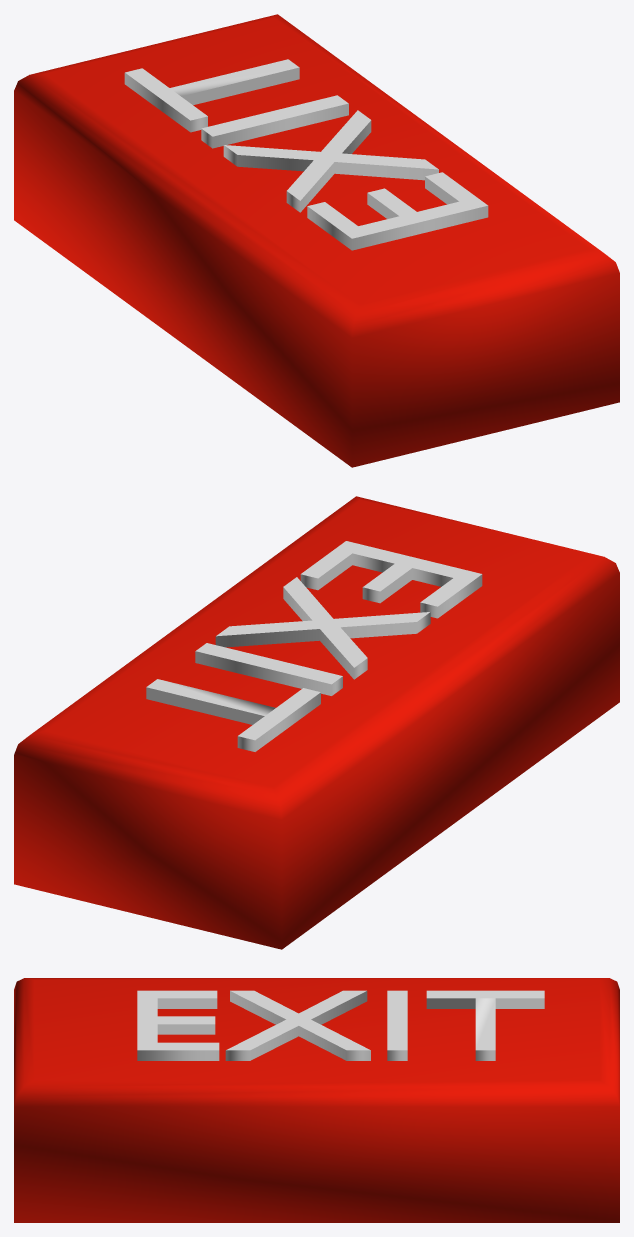
The model's file is ExitButton.fbx.
The picture shows the model from 3 angles, top to bottom: view 1: azimuth 30°, elevation 25°; view 2: azimuth 150°, elevation 25°; view 3: azimuth 270°, elevation 25°; orthographic projection. The views are drawn at different scales.
Visible parts, largest first — view 1: ExitButton; view 2: ExitButton; view 3: ExitButton.
Boxes of the visible parts, x1,y1,x2,y2 form: ExitButton: [14, 14, 619, 467]; ExitButton: [14, 496, 619, 949]; ExitButton: [14, 978, 619, 1222].
Bounding box in the file's own units: 207 × 119 × 452.
